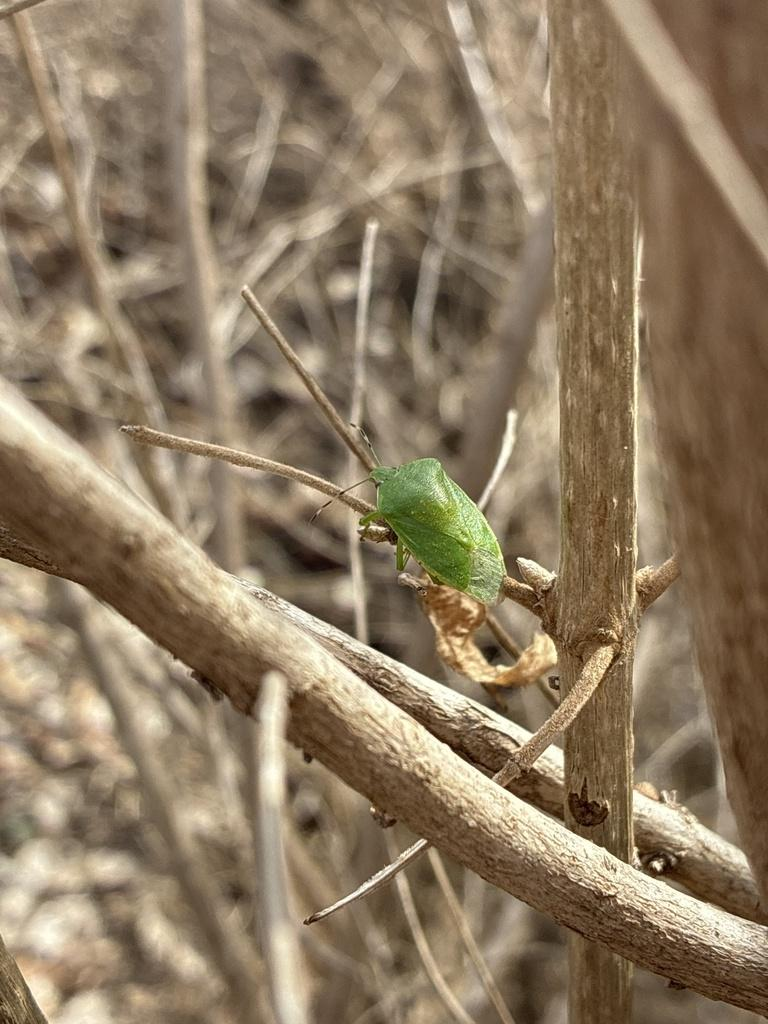stink_bugs: (288, 366, 552, 652)
